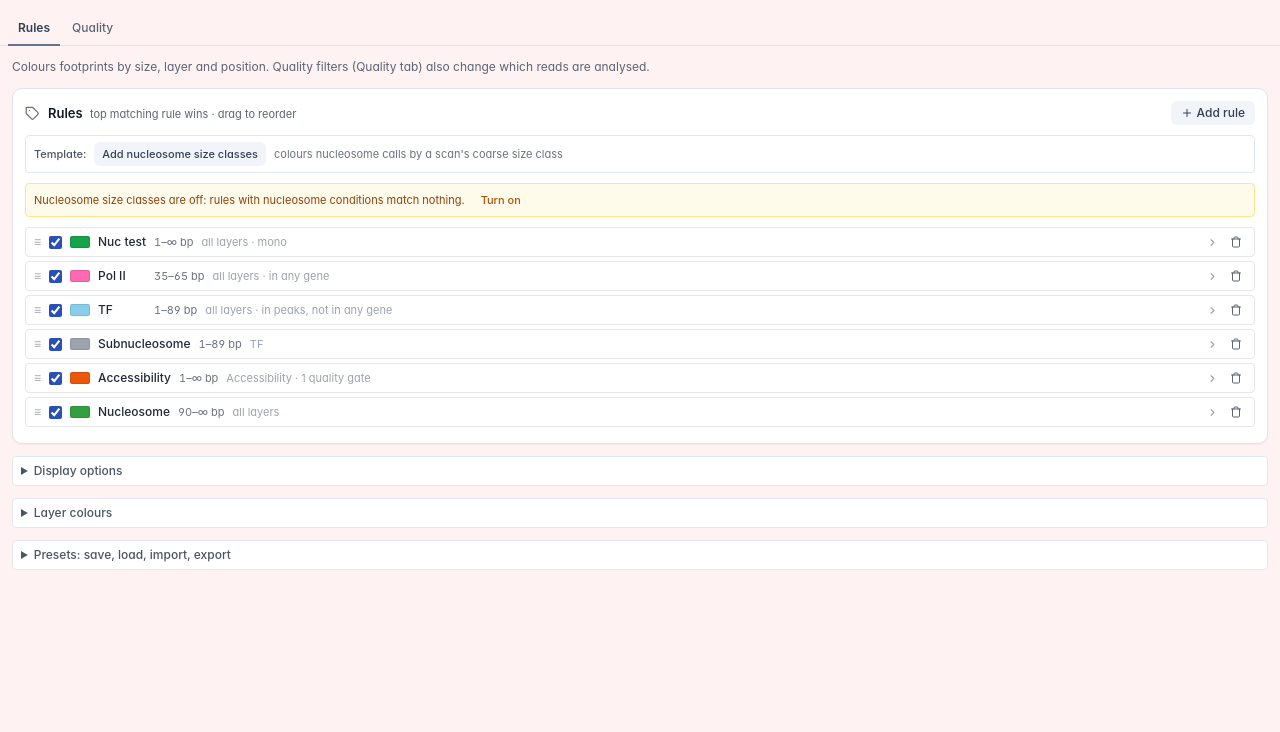
Scenario: nucleosome conditions in the colormap rule editor › says when nucleosome rules cannot match because the layer is off
Expected: the element with test id "nuc-size-layer-off" shows "size classes are off", left=34, top=193, right=465, bottom=207
Click the button "Turn on". click: [501, 200]
box: left=473, top=188, right=529, bottom=212
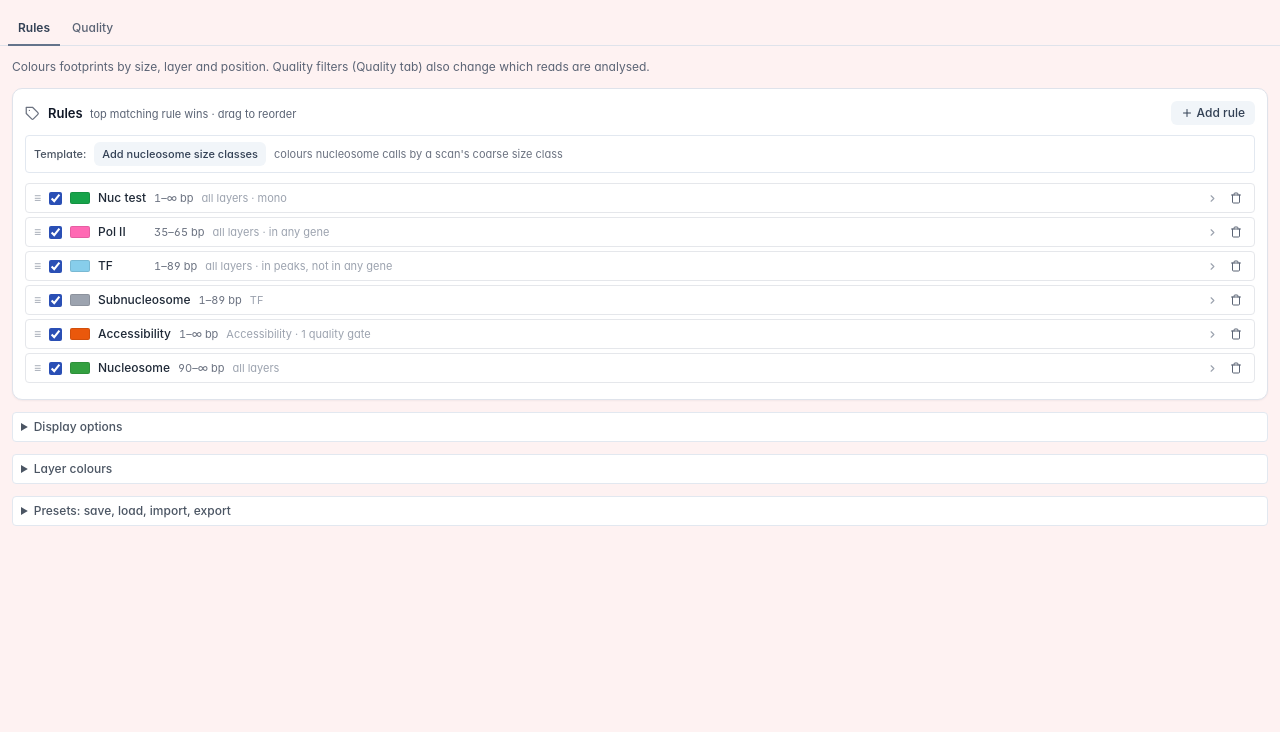
Expected: the element with test id "nuc-size-layer-off" is gone
